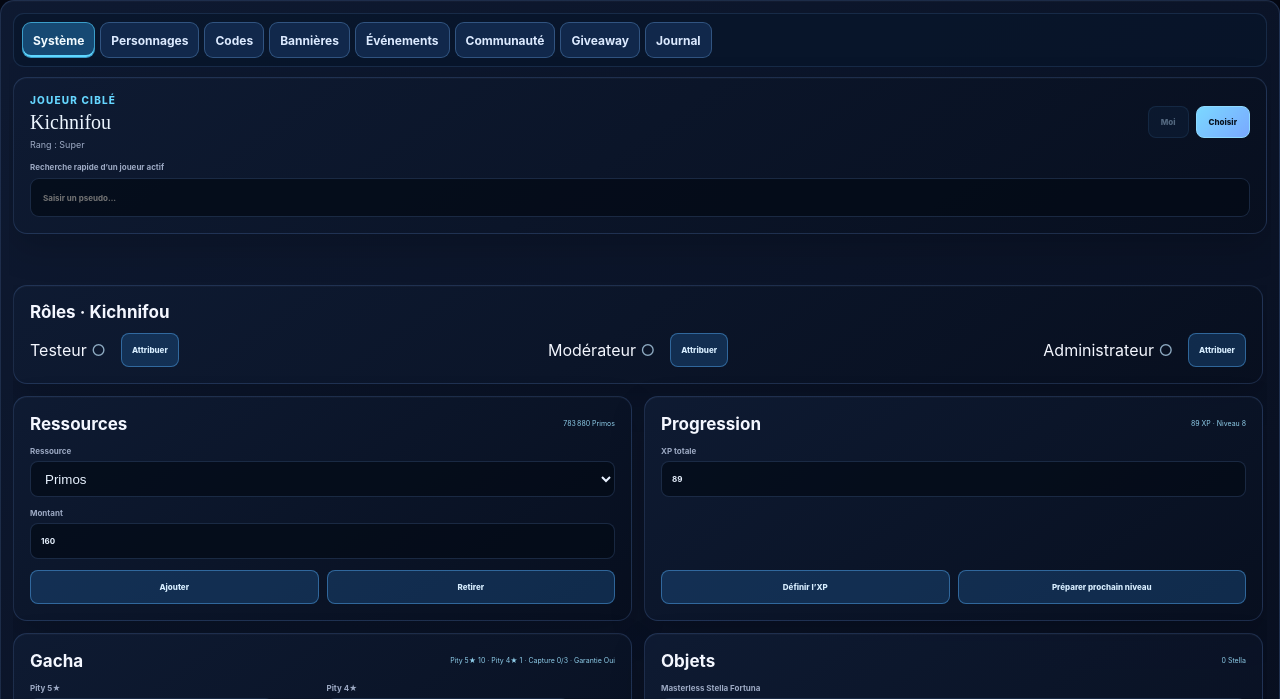
Test: ModerationScreen › keeps browser selection temporary until confirmation and cancels without changing the target
Click the button "Choisir". click: (1223, 122)
box: x1=1196 y1=106 x2=1250 y2=138
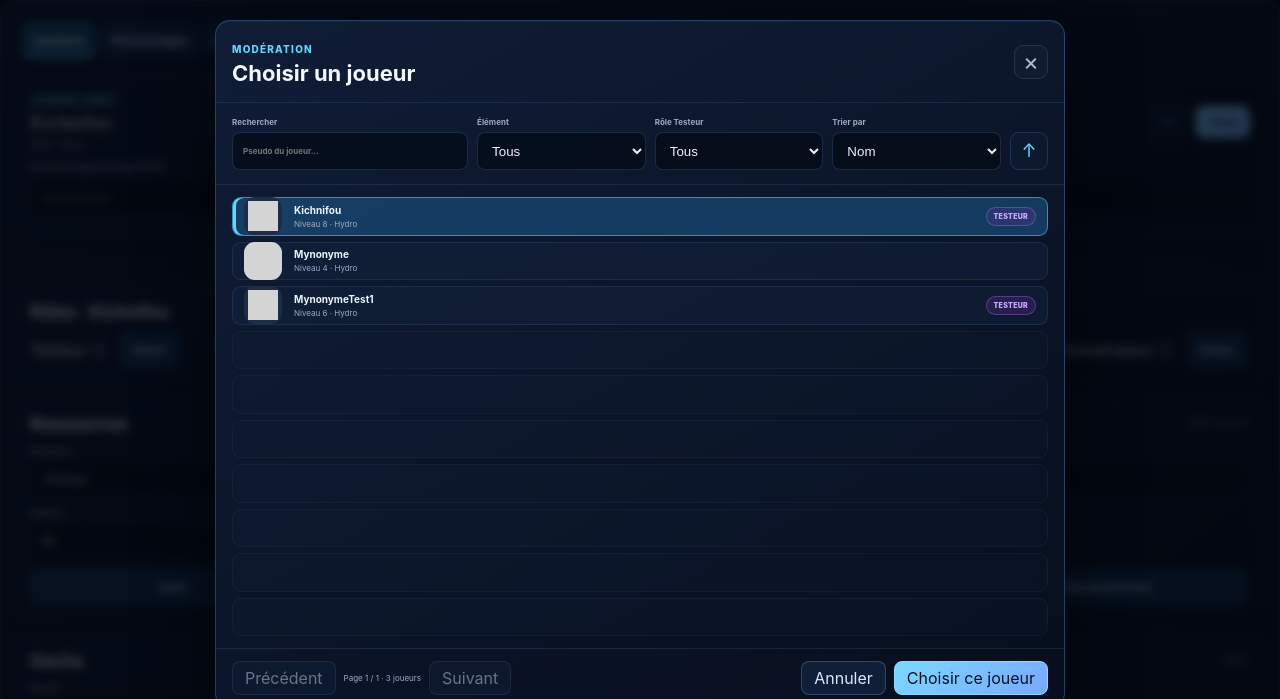
Click the button "MynonymeTest1 Niveau 6 · Hydro Testeur". click: (263, 305)
box: x1=232 y1=286 x2=1048 y2=324
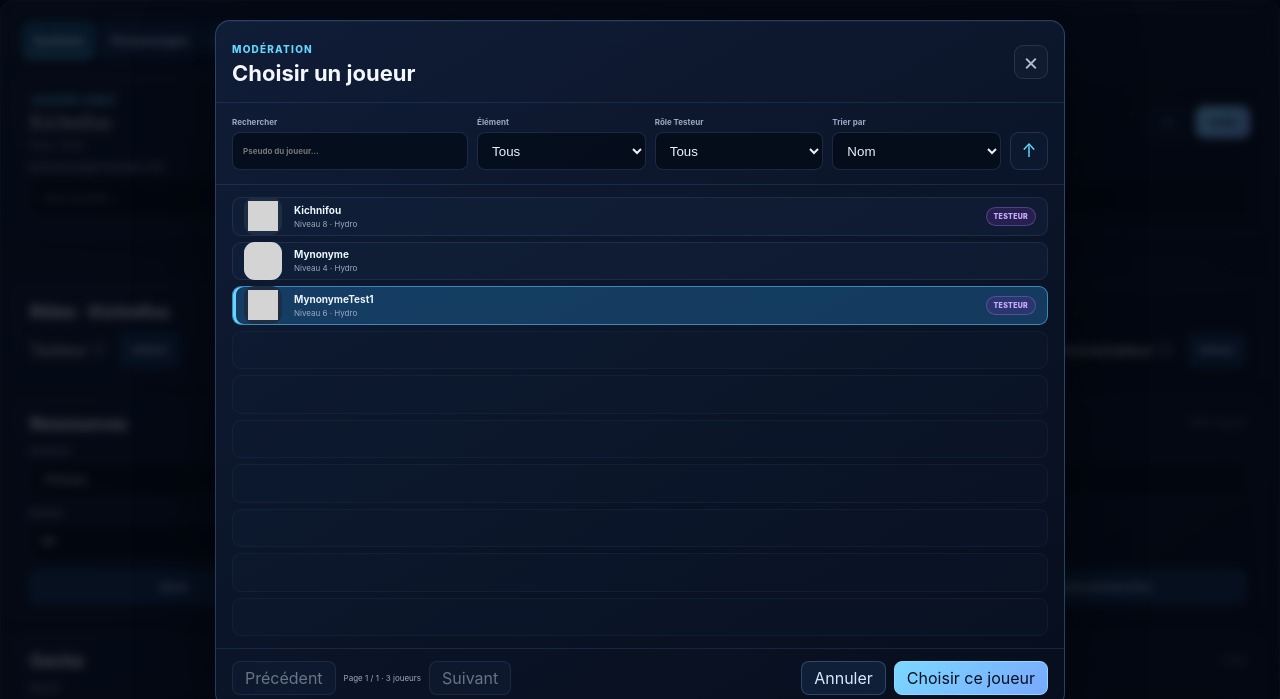
Click the button "Annuler". click: (844, 678)
box: x1=801 y1=661 x2=886 y2=695
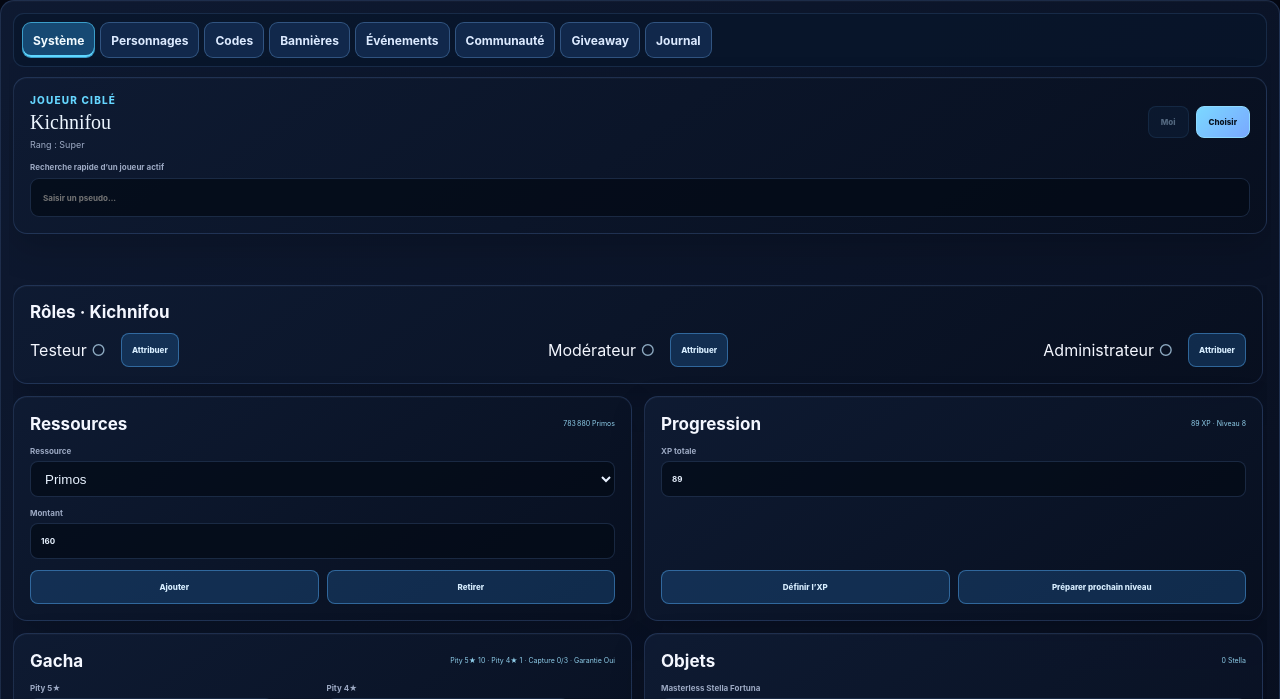
Click the button "Choisir". click: (1223, 122)
box: x1=1196 y1=106 x2=1250 y2=138
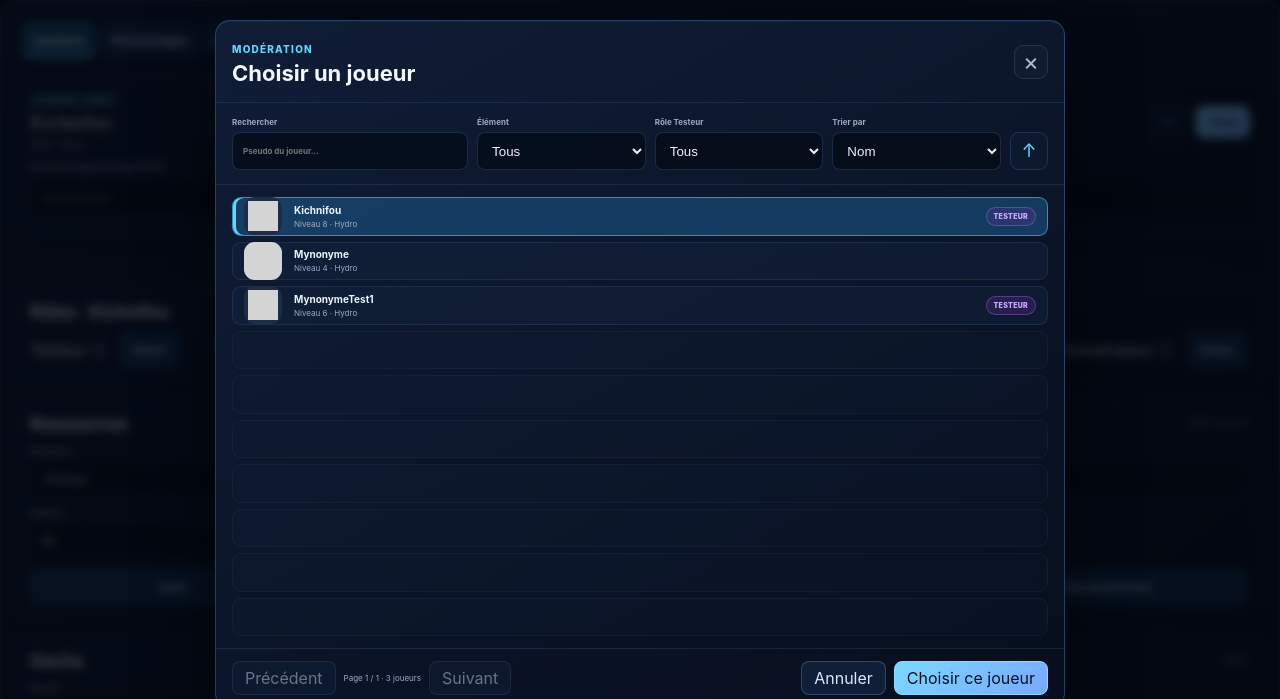
Click the button "Mynonyme Niveau 4 · Hydro". click: (263, 261)
box: x1=232 y1=242 x2=1048 y2=280
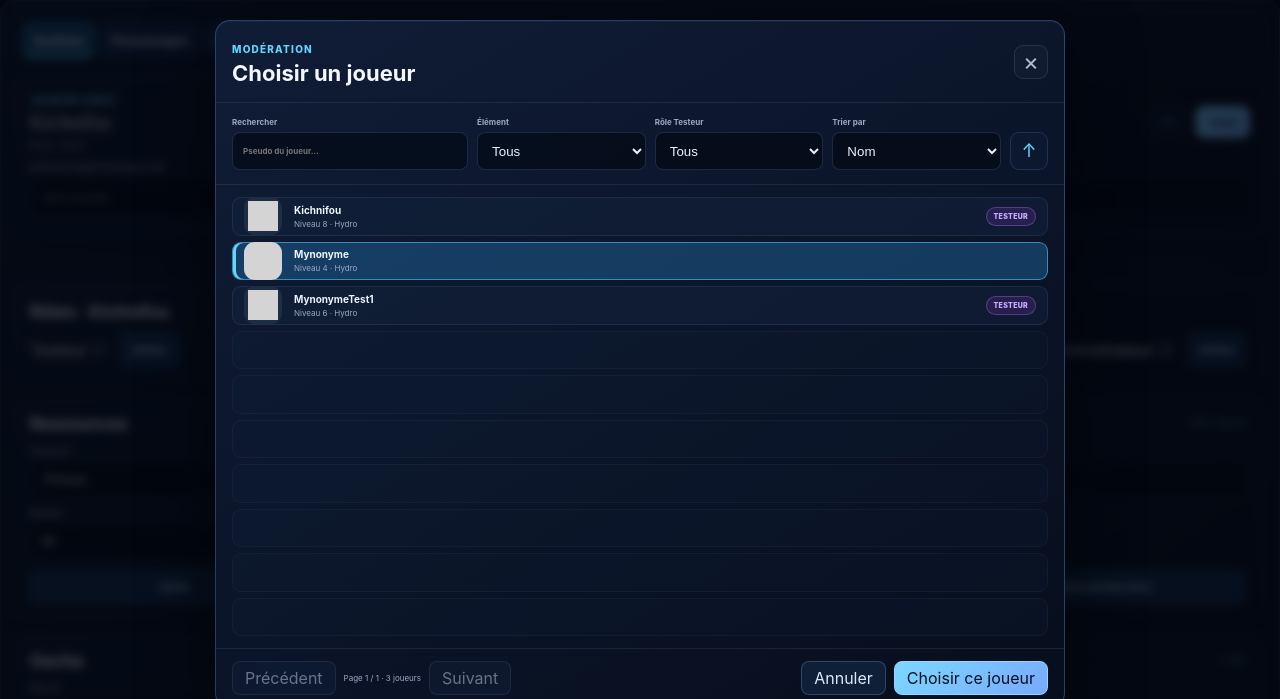
Click the button "Choisir ce joueur". click: (971, 678)
box: x1=894 y1=661 x2=1048 y2=695
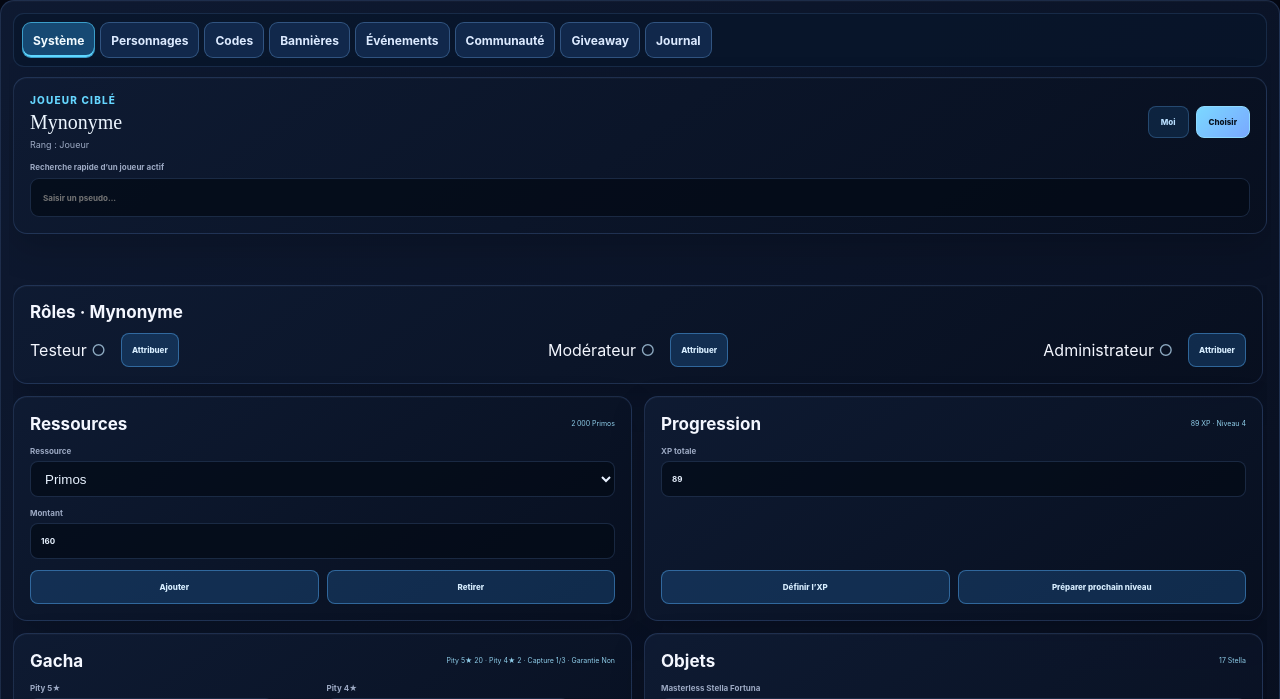
Expected: the text "Mynonyme" is shown, x1=30 y1=111 x2=122 y2=134
